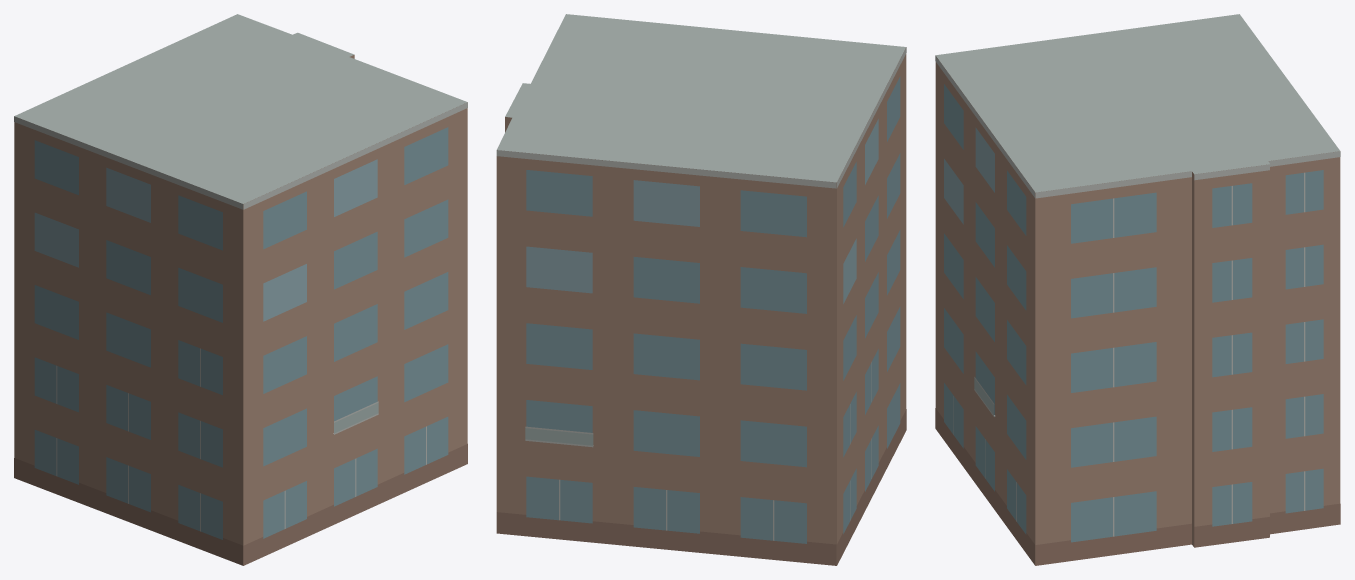
Rendered from survey-upis-32629802.glb.
3 renders of one model, left to right at view 1: azimuth 30°, elevation 25°; view 2: azimuth 150°, elevation 25°; view 3: azimuth 270°, elevation 25°, orthographic. The views are drawn at different scales.
Parts seen in each view (by area): view 1: survey-upis-32629802.tmp; view 2: survey-upis-32629802.tmp; view 3: survey-upis-32629802.tmp.
Part boxes in pixels (<box>): survey-upis-32629802.tmp: <box>14,14,467,565</box>; survey-upis-32629802.tmp: <box>496,14,906,565</box>; survey-upis-32629802.tmp: <box>935,14,1340,565</box>.
Size of the model in its own units: 15.65 by 15.25 by 15.
